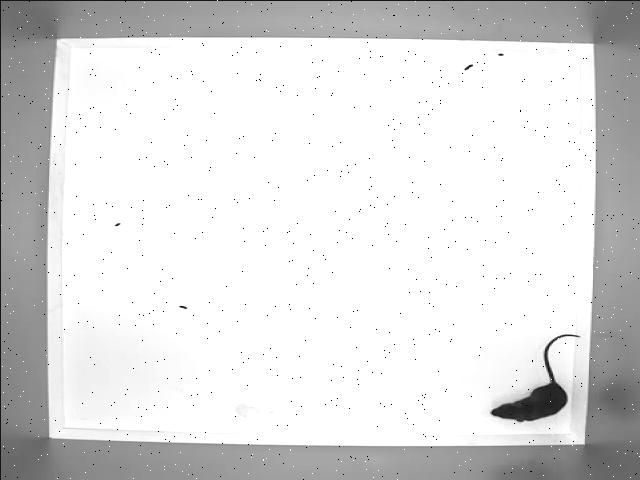Tikus: (486, 330, 584, 426)
